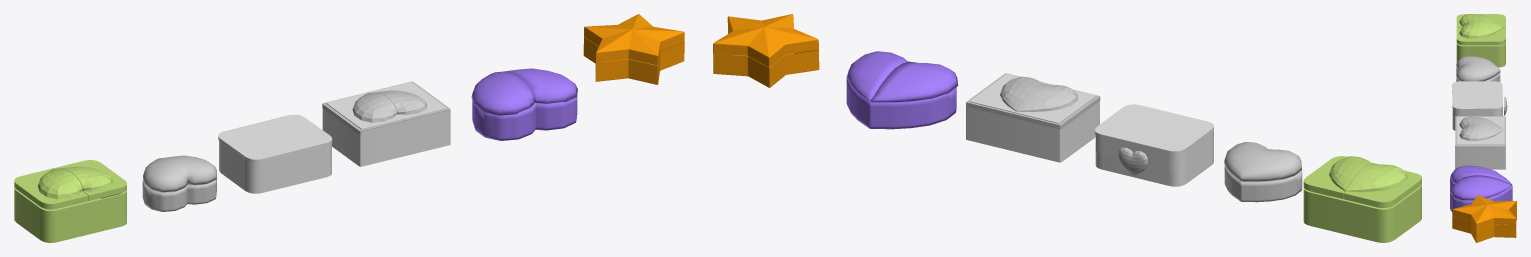
Rendered from kutije_nove - Copy.fbx.
The picture shows the model from 3 angles, left to right: view 1: azimuth 30°, elevation 25°; view 2: azimuth 150°, elevation 25°; view 3: azimuth 270°, elevation 25°; orthographic projection. The views are drawn at different scales.
Parts seen in each view (by area): view 1: Box001, Box011.001, Box011, Box012, Star002, Vert.002, Box009.003, Vert004, Vert, Star002.001, Box009.002, Vert005 (+4 smaller); view 2: Box012, Box011.001, Box001, Star002, Vert.002, Vert004, Box009.003, Vert, Box011, Star002.001, Box006, Box009.002 (+6 smaller); view 3: Box012, Star002, Box001, Vert005, Box009.002, Vert, Star002.001, Box011.001, Box005, Box002, Vert004, Box009.003 (+5 smaller).
Part boxes in pixels (left/top/right/bottom): Box001: left=322, top=108, right=450, bottom=166; Box011.001: left=14, top=187, right=126, bottom=242; Box011: left=219, top=141, right=331, bottom=193; Box012: left=218, top=114, right=332, bottom=162; Star002: left=584, top=14, right=684, bottom=65; Vert.002: left=472, top=96, right=577, bottom=140; Box009.003: left=14, top=168, right=88, bottom=209; Vert004: left=471, top=72, right=534, bottom=115; Vert: left=143, top=155, right=216, bottom=192; Star002.001: left=583, top=36, right=684, bottom=84; Box009.002: left=52, top=160, right=126, bottom=200; Vert005: left=496, top=68, right=577, bottom=103; Box012: left=1095, top=104, right=1213, bottom=170; Box011.001: left=1303, top=184, right=1421, bottom=242; Box001: left=966, top=101, right=1099, bottom=158; Star002: left=713, top=14, right=818, bottom=67; Vert.002: left=846, top=68, right=956, bottom=129; Vert004: left=870, top=61, right=958, bottom=102; Box009.003: left=1344, top=163, right=1421, bottom=207; Vert: left=1224, top=142, right=1301, bottom=181; Box011: left=1095, top=129, right=1213, bottom=186; Star002.001: left=713, top=28, right=819, bottom=87; Box006: left=1014, top=84, right=1100, bottom=129; Box009.002: left=1303, top=156, right=1378, bottom=198; Box012: left=1452, top=81, right=1502, bottom=116; Star002: left=1452, top=195, right=1516, bottom=229; Box001: left=1455, top=146, right=1505, bottom=169; Vert005: left=1450, top=175, right=1511, bottom=200; Box009.002: left=1456, top=21, right=1505, bottom=45; Vert: left=1456, top=56, right=1500, bottom=81; Star002.001: left=1452, top=208, right=1516, bottom=242; Box011.001: left=1456, top=42, right=1505, bottom=67; Box005: left=1455, top=123, right=1505, bottom=146; Box002: left=1457, top=116, right=1504, bottom=144; Vert004: left=1450, top=165, right=1511, bottom=183; Box009.003: left=1456, top=14, right=1505, bottom=27.
Size of the model in its own units: 744 by 59.89 by 99.19.
